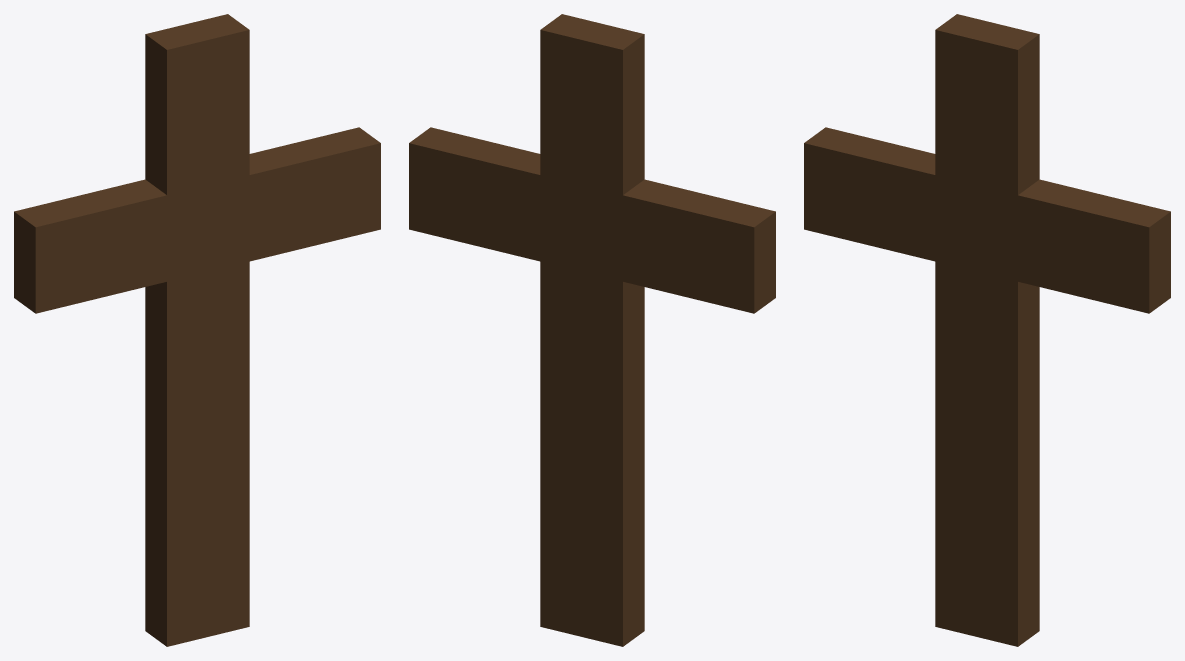
Rendered from wall_crucifix.glb.
The picture shows the model from 3 angles, left to right: view 1: azimuth 30°, elevation 25°; view 2: azimuth 150°, elevation 25°; view 3: azimuth 330°, elevation 25°; orthographic projection.
Parts seen in each view (by area): view 1: wood__cross_vertical, wood__cross_horizontal; view 2: wood__cross_vertical, wood__cross_horizontal; view 3: wood__cross_vertical, wood__cross_horizontal.
Part boxes in pixels (x1=…): wood__cross_vertical: x1=145, y1=14, x2=249, y2=646; wood__cross_horizontal: x1=14, y1=127, x2=380, y2=313; wood__cross_vertical: x1=540, y1=14, x2=644, y2=646; wood__cross_horizontal: x1=409, y1=127, x2=775, y2=313; wood__cross_vertical: x1=935, y1=14, x2=1039, y2=646; wood__cross_horizontal: x1=804, y1=127, x2=1170, y2=313.
Bounding box in the file's own units: 0.23 × 0.38 × 0.025.
